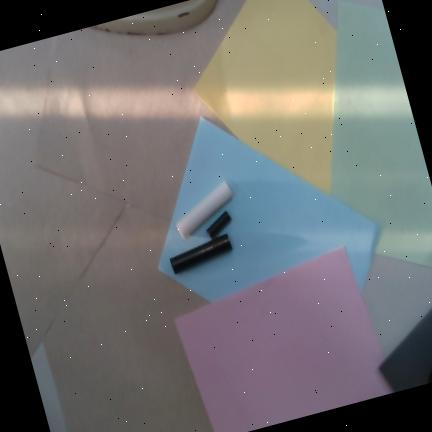Cilindro: (175, 179, 233, 239), (169, 233, 232, 274), (206, 210, 231, 239)
